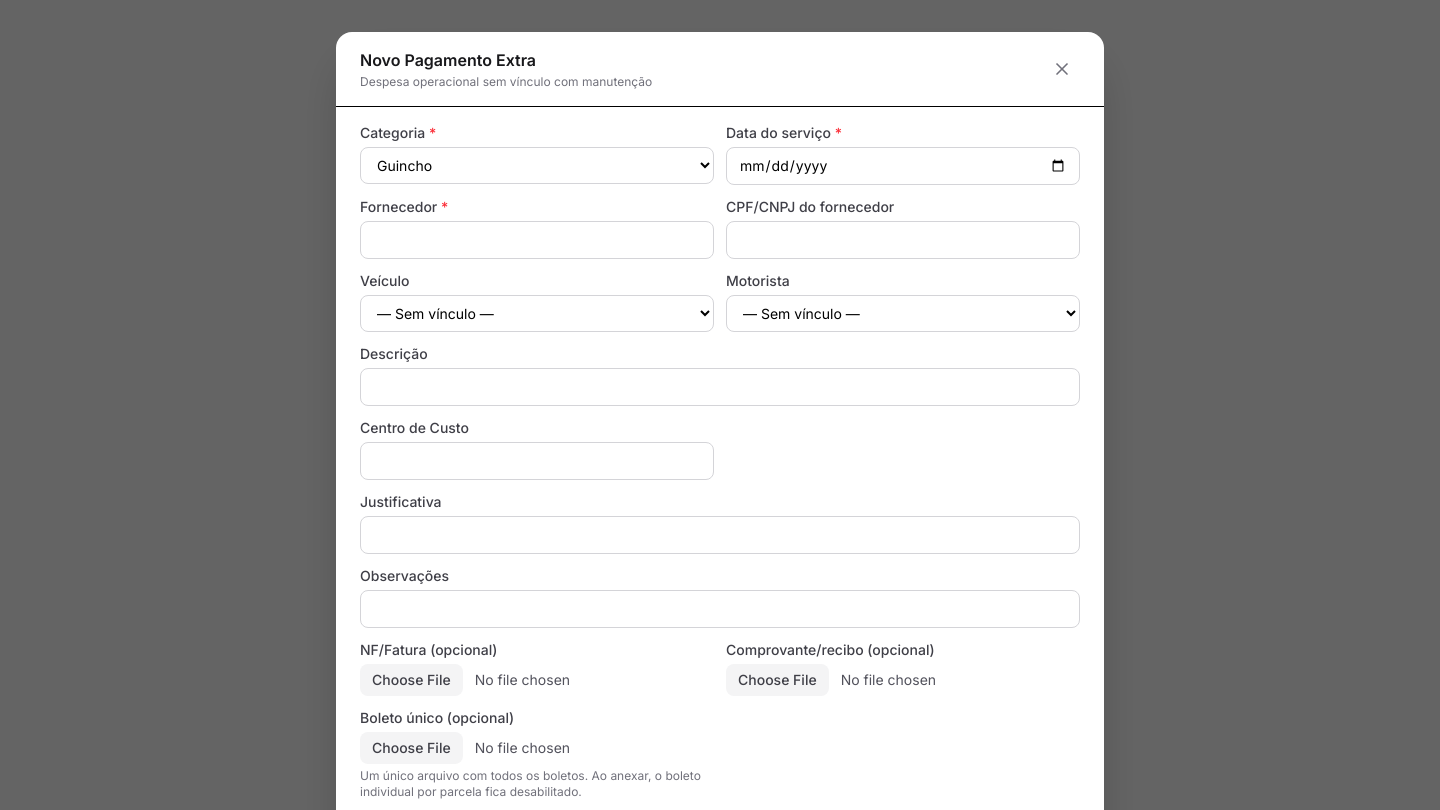
Test: ExtraPaymentFormModal › selecionar motorista com veículo vinculado preenche o veículo
Select "João Motorista" in the dropdown below "Motorista" at (903, 314), box [726, 295, 1080, 332]
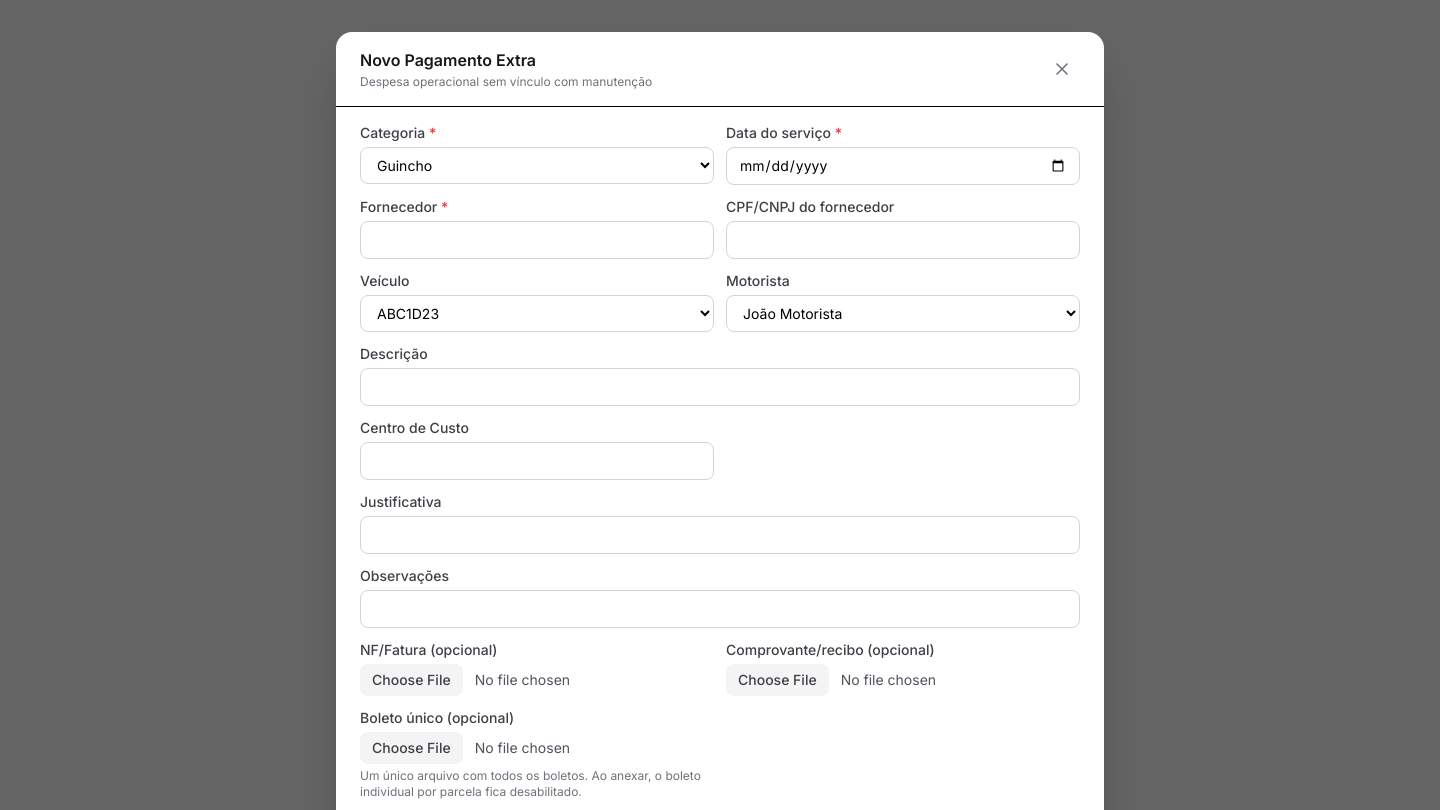
Now the dropdown below "Veículo" shows "ABC1D23", box [360, 295, 714, 332]
